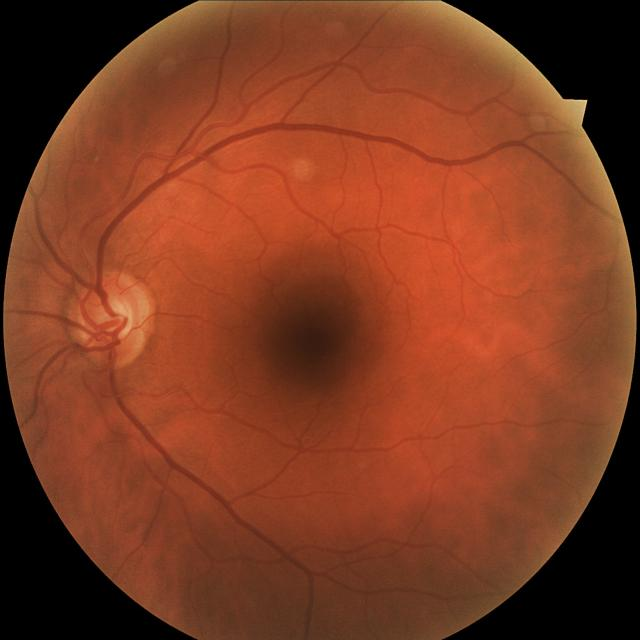OC: (96, 298, 134, 340)
OD: (66, 273, 153, 369)
